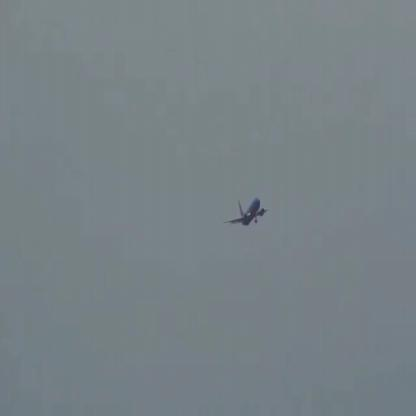CIV_Plane: (223, 197, 268, 226)
